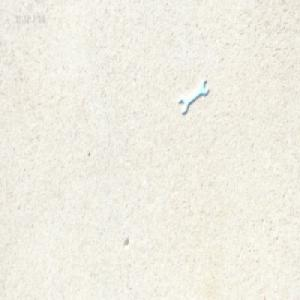Wrench: (179, 79, 208, 114)
